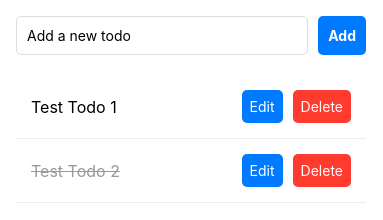
it: TodoScreen › deletes a todo
The width and height of the screenshot is (383, 220).
Click the text "Delete" in the row of "Test Todo 1".
click(322, 106)  # box [301, 98, 343, 115]
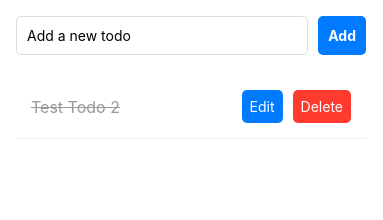
Expected: the text "Test Todo 1" is gone
